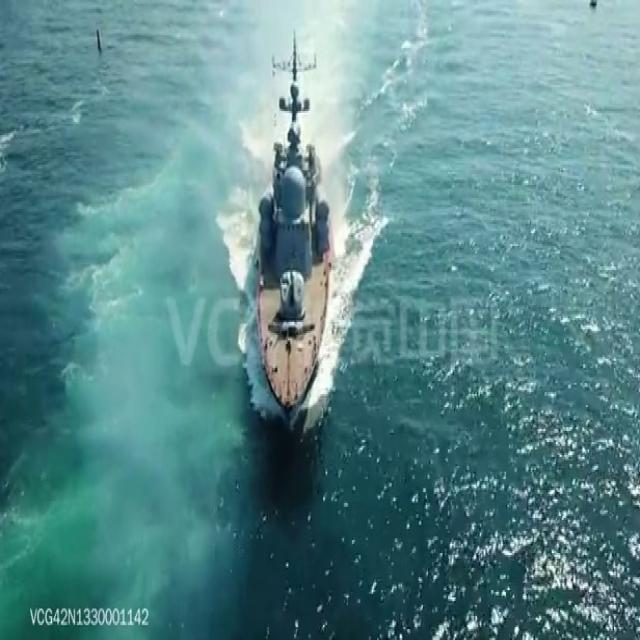navalvessels: (248, 38, 333, 407)
